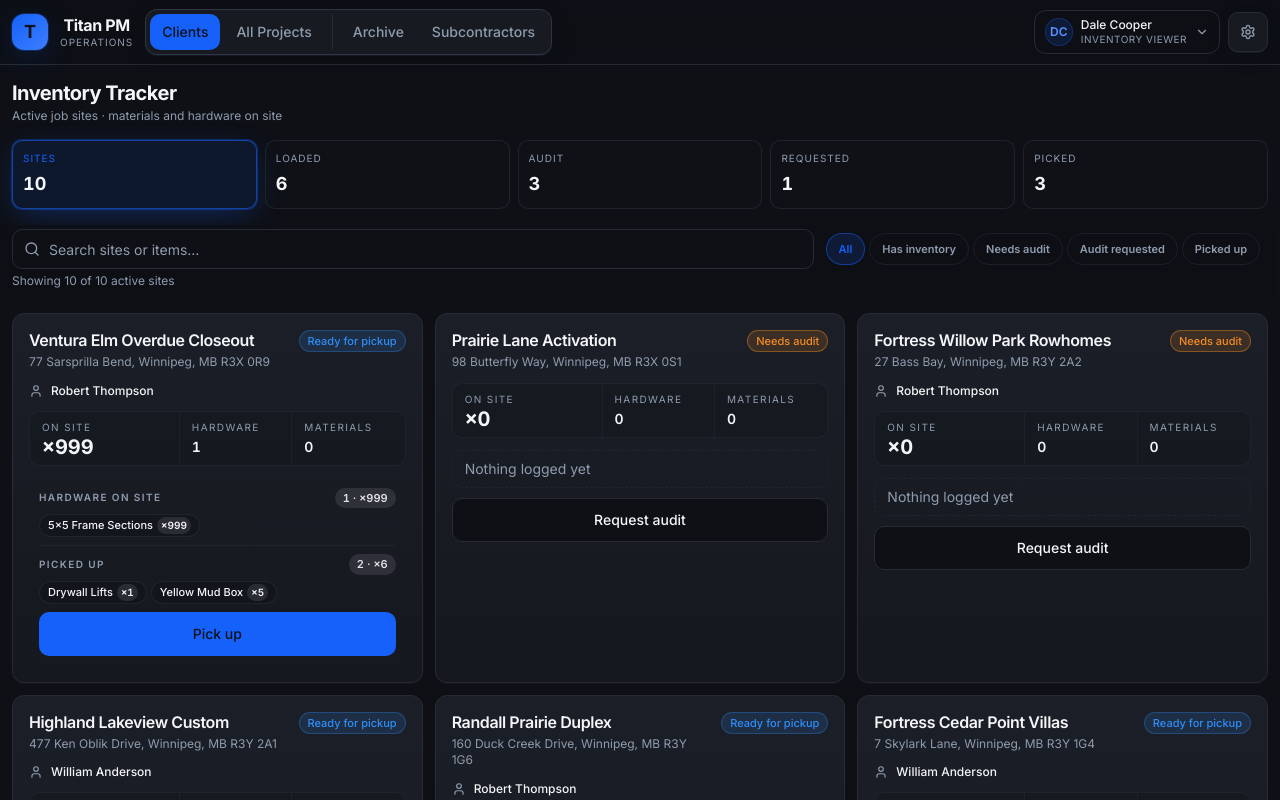
Test: inventory pickup UI › maxes every pickup line when All is selected
Click the button "Pick up". click: point(217, 634)
box: 39,612 -> 396,656
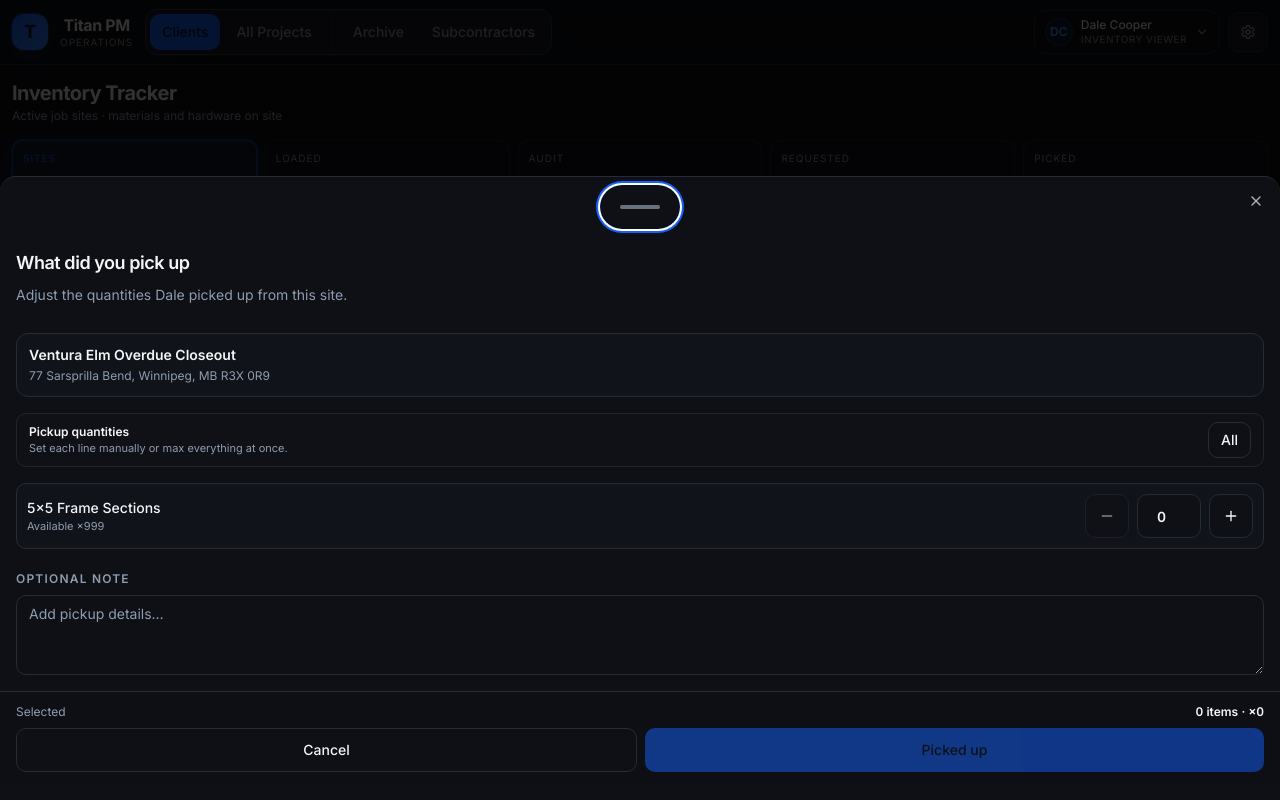
Result: the heading "What did you pick up" is shown at 16,252 -> 190,273
Click the button with aria-label "Set all pickup quantities to available". click: point(1230, 440)
box: 1208,422 -> 1251,458
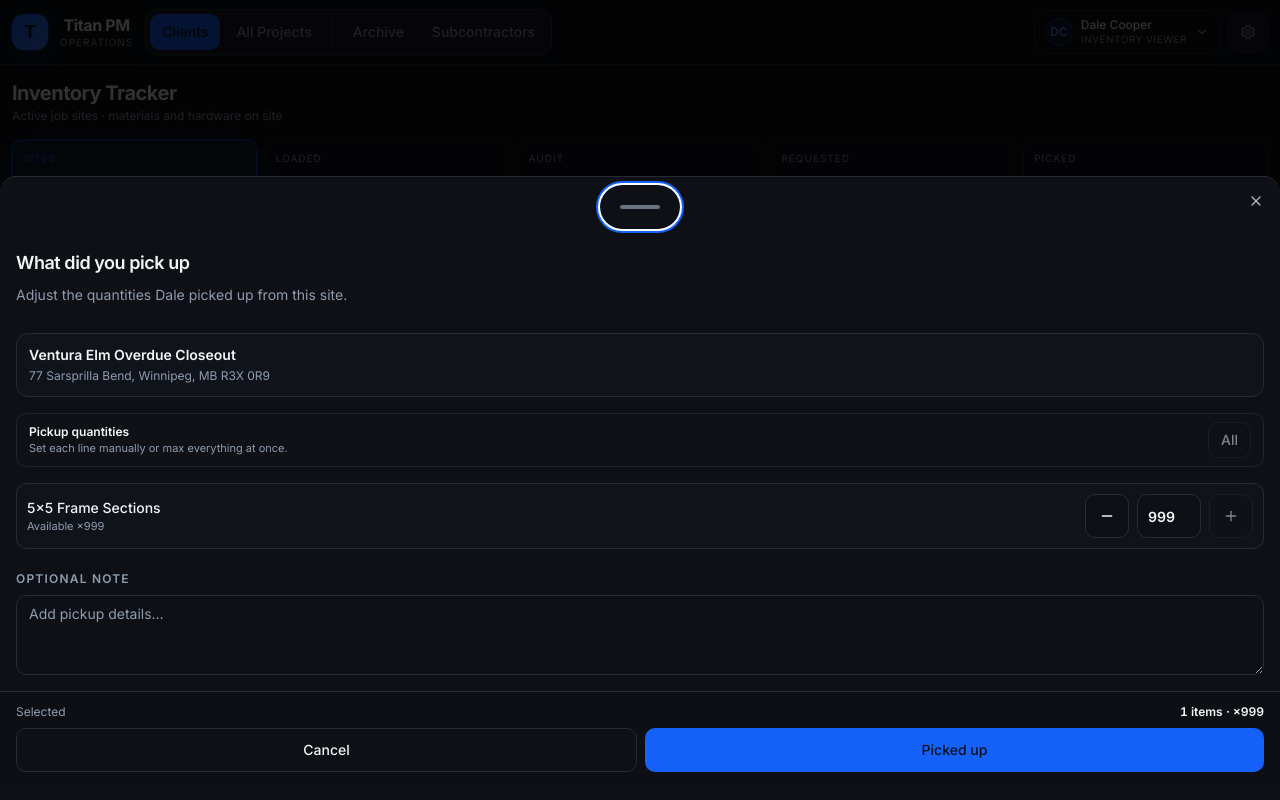
Result: the number field named "Quantity for " holds "999" at 1137,494 -> 1201,538
Result: the button "Picked up" is enabled at 645,728 -> 1264,772
